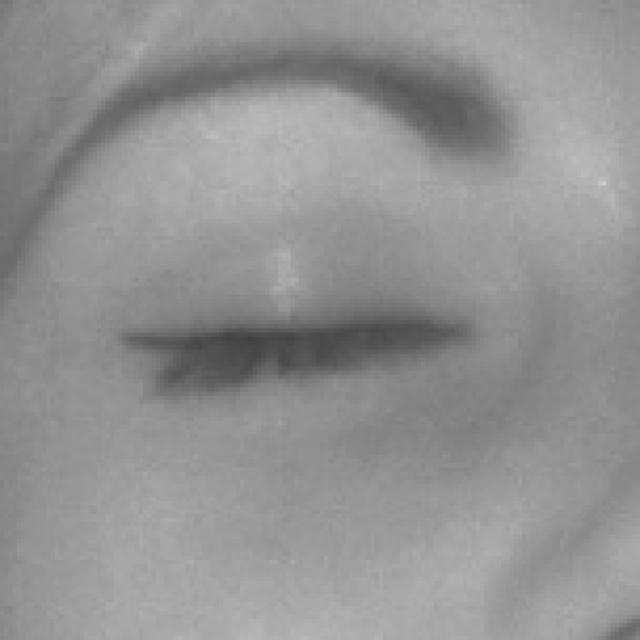Eyeclosed: (120, 211, 478, 490)
